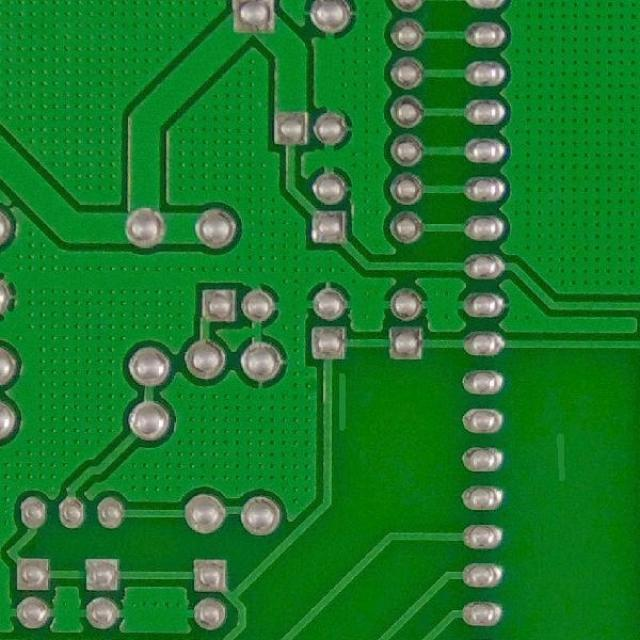Spurious_Cooper: (548, 428, 574, 488), (335, 369, 355, 436)
